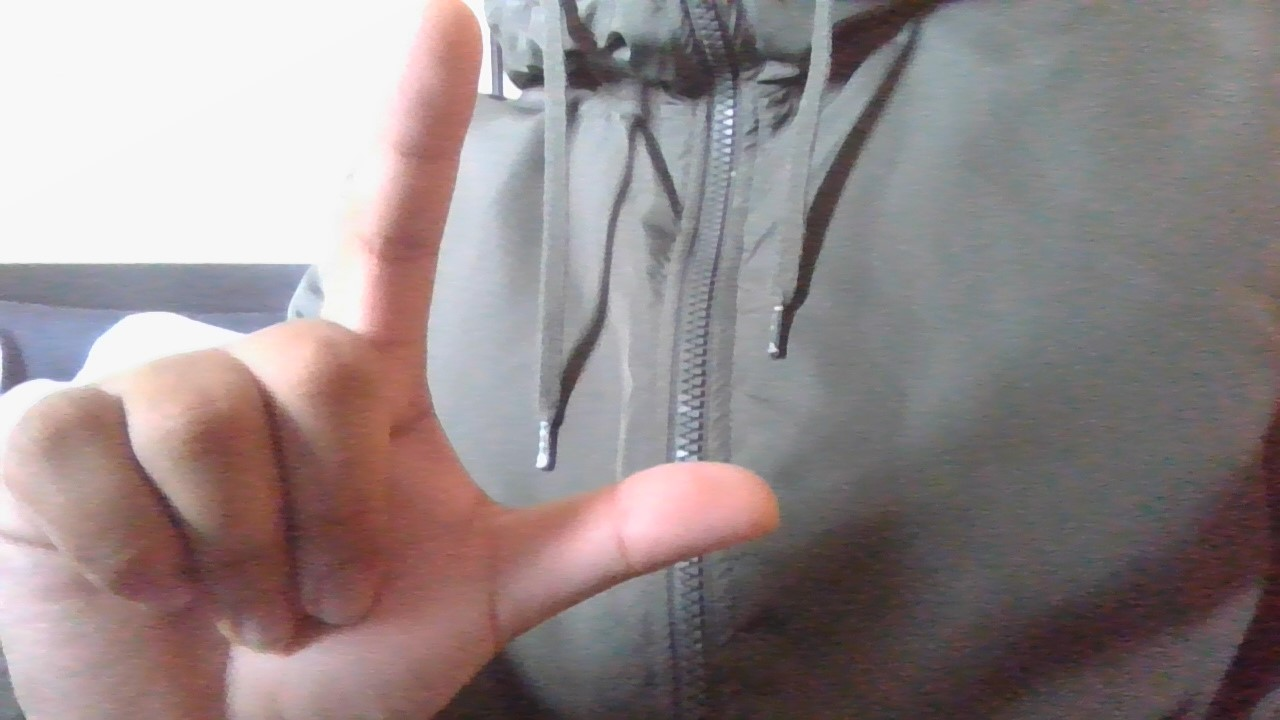l: (1, 1, 798, 717)
